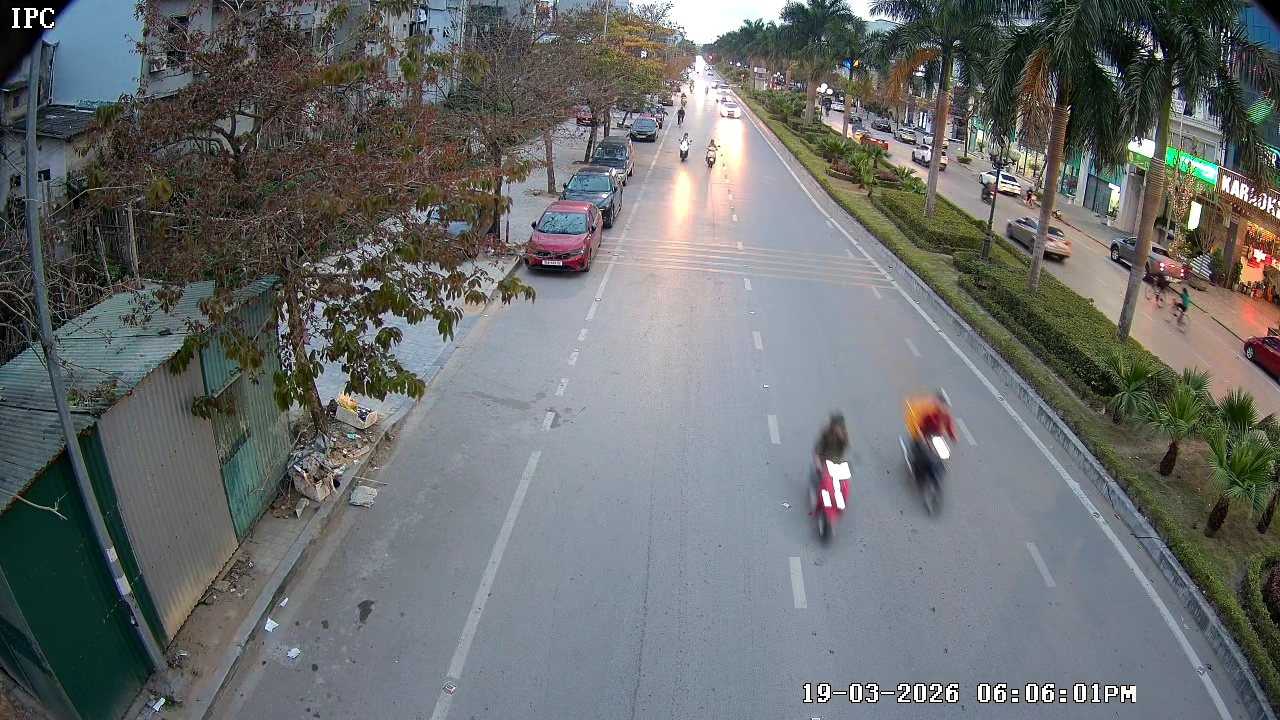bike: (802, 408, 857, 542)
car: (524, 201, 600, 276), (559, 169, 622, 229), (629, 114, 659, 144), (719, 101, 746, 120)
motorbike: (704, 136, 722, 172), (675, 133, 694, 161)
